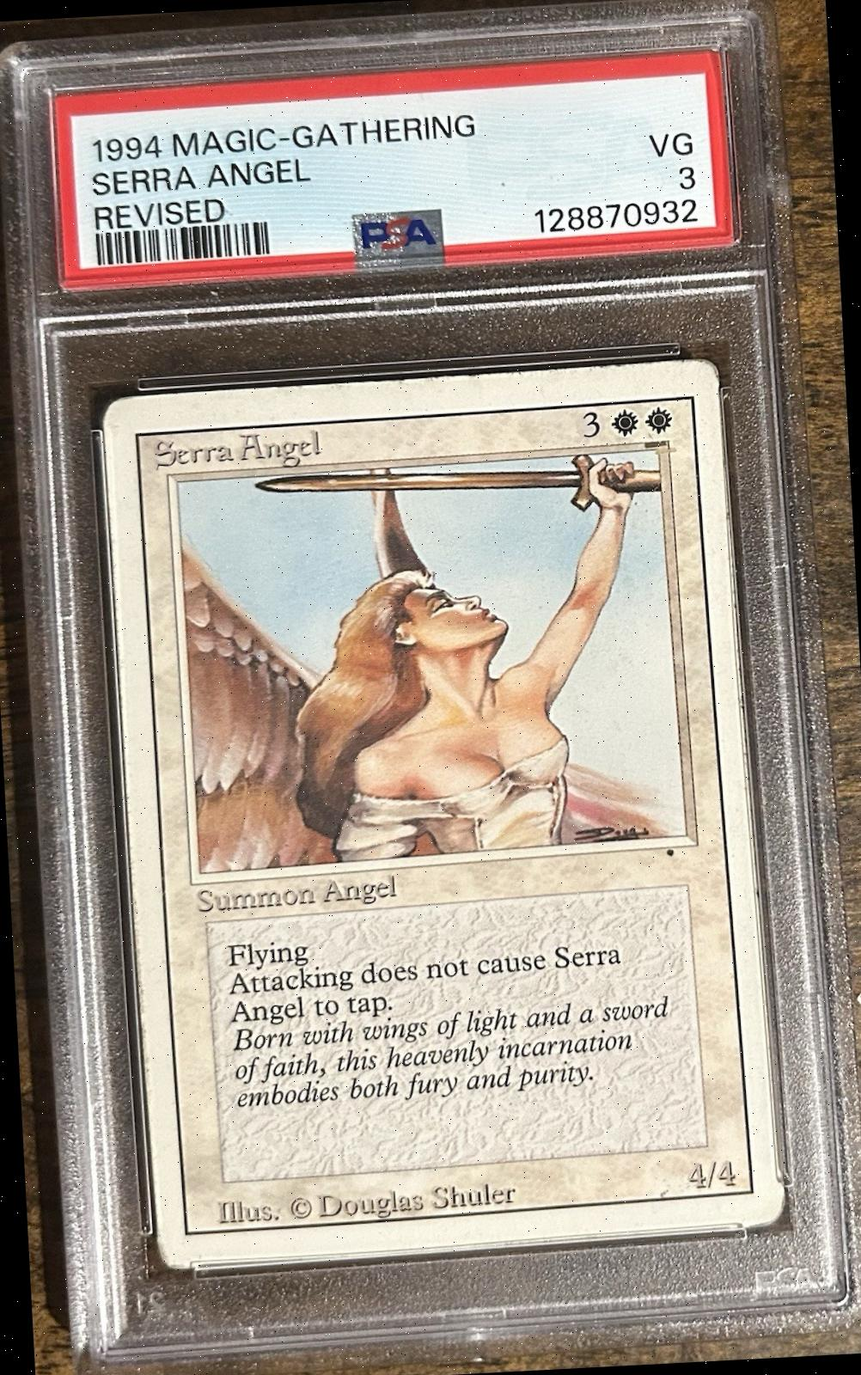card-2UtV: (102, 358, 785, 1269)
